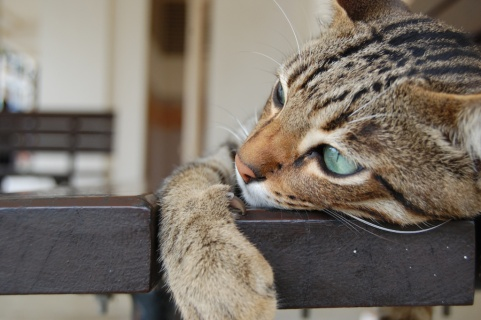Cat: (152, 0, 480, 319)
